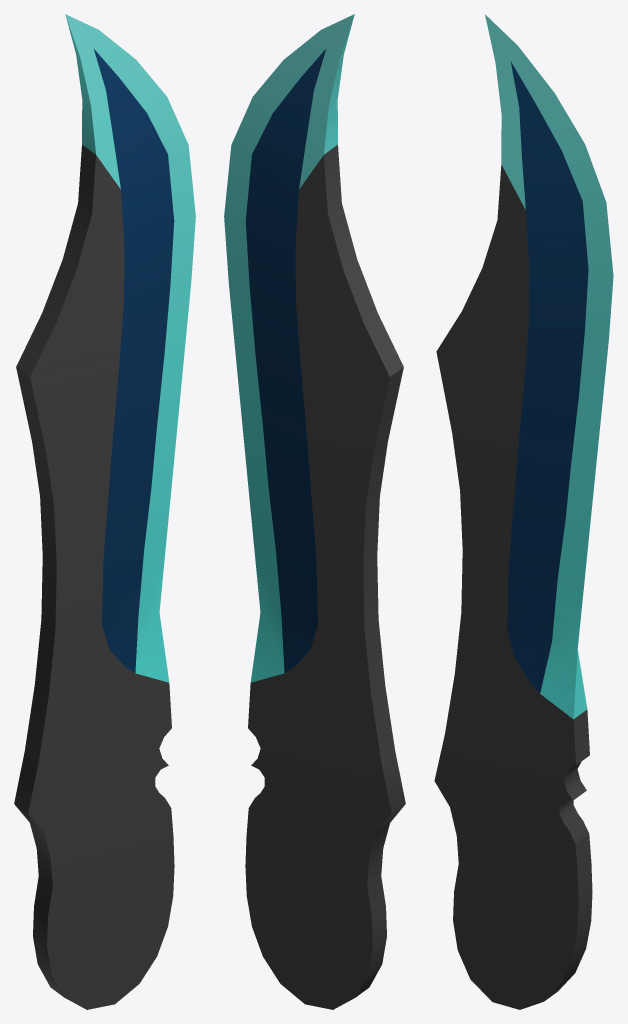
File: Knife_01.fbx
3 renders of one model, left to right at view 1: azimuth 30°, elevation 25°; view 2: azimuth 150°, elevation 25°; view 3: azimuth 330°, elevation 25°, orthographic.
Visible parts, largest first — view 1: Knife_01; view 2: Knife_01; view 3: Knife_01.
Boxes of the visible parts, left/top/right/bottom form: Knife_01: left=14, top=14, right=195, bottom=1009; Knife_01: left=224, top=14, right=405, bottom=1009; Knife_01: left=434, top=14, right=613, bottom=1009.
Bounding box in the file's own units: 3.83 × 20.83 × 0.5369.
